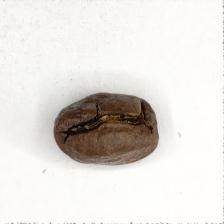NG: (63, 100, 152, 154)
